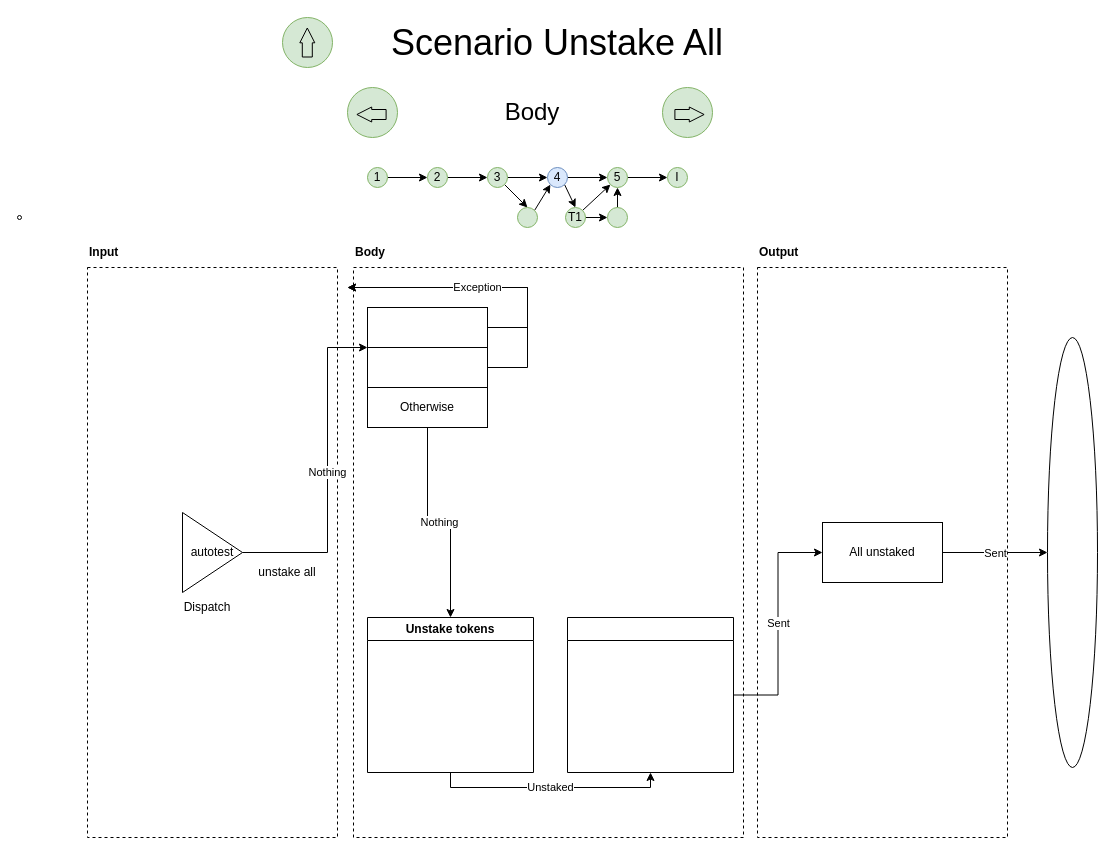
Image size: 1115x855. Some labels were removed from this diagram. Here are the shapes that lost their labels. From the top down, the centre of each, then its label:
the point at 527,217: S1
the point at 617,217: S2
the point at 427,327: Incorrect sender
the point at 427,367: Insufficient value
the point at 1072,552: out
the point at 650,694: Reserve tokens
